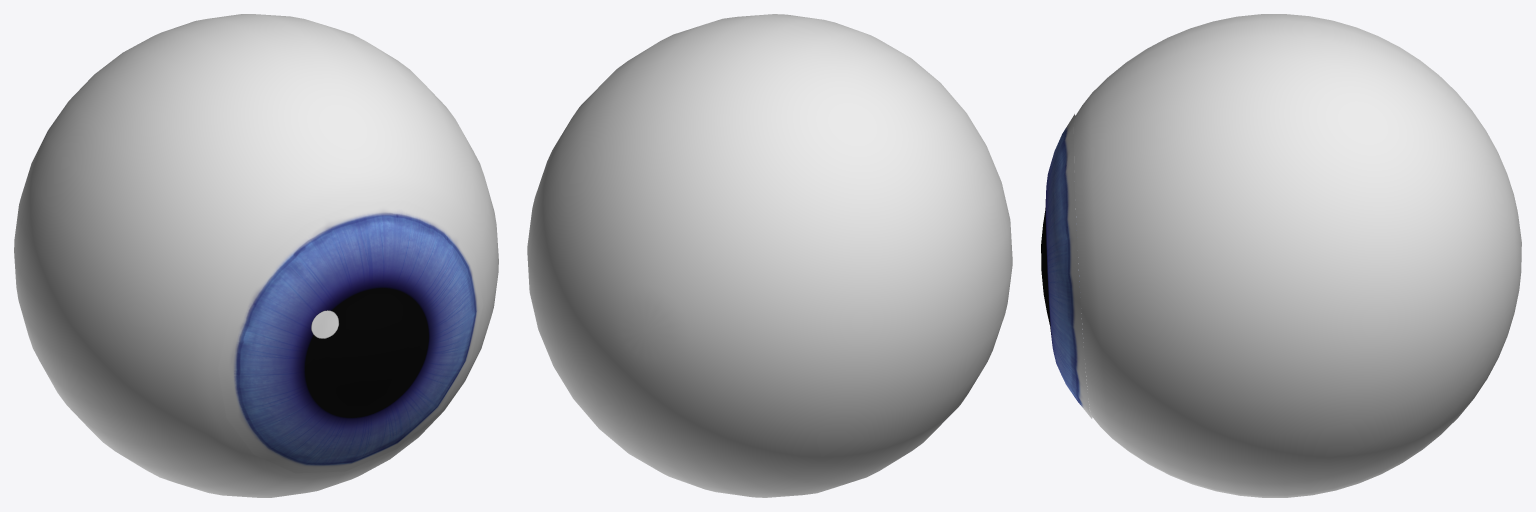
File: FinalEye2.glb
3 renders of one model, left to right at view 1: azimuth 30°, elevation 25°; view 2: azimuth 150°, elevation 25°; view 3: azimuth 270°, elevation 25°, orthographic.
Visible parts, largest first — view 1: polySurface2; view 2: polySurface2; view 3: polySurface2.
Part boxes in pixels (x1,y1,x2,y2): polySurface2: (14,14,498,497); polySurface2: (527,14,1012,497); polySurface2: (1041,14,1521,497).
Size of the model in its own units: 1.95 by 1.95 by 1.94.
2 materials, 2 textured.
